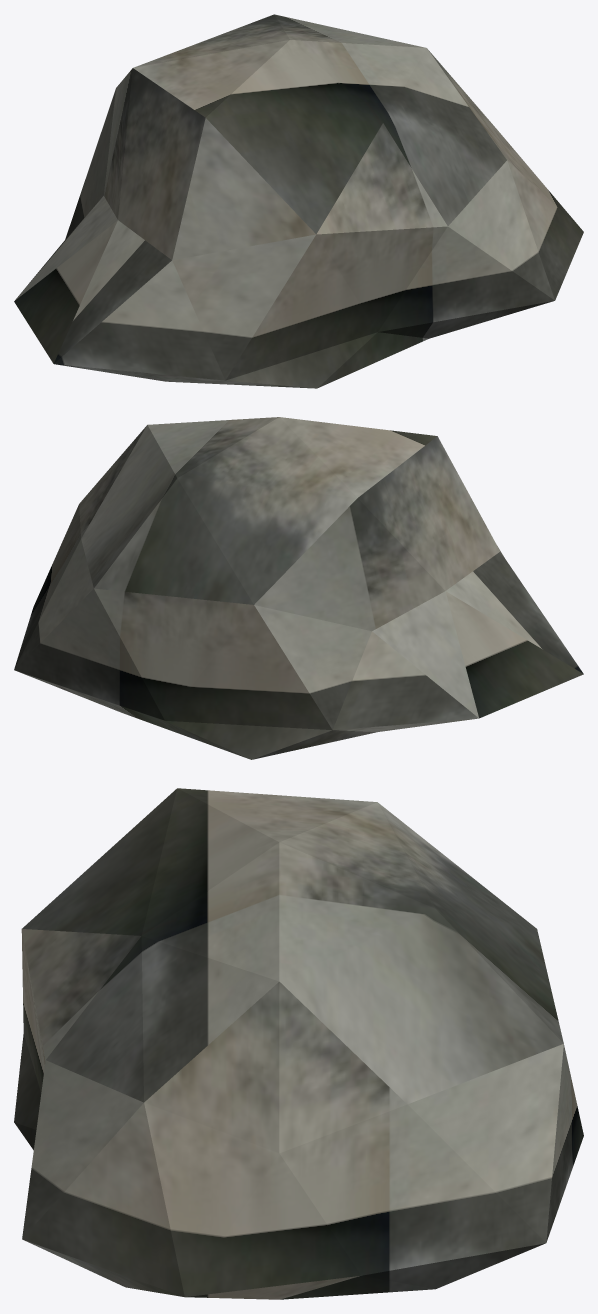
File: terrain3_rock_1.glb
The picture shows the model from 3 angles, top to bottom: view 1: azimuth 30°, elevation 25°; view 2: azimuth 150°, elevation 25°; view 3: azimuth 270°, elevation 25°; orthographic projection. The views are drawn at different scales.
Parts seen in each view (by area): view 1: terrain3_rock_1.glb; view 2: terrain3_rock_1.glb; view 3: terrain3_rock_1.glb.
Part boxes in pixels (box(x1,y1,x2,y2)): terrain3_rock_1.glb: box(14, 14, 583, 388); terrain3_rock_1.glb: box(14, 417, 583, 759); terrain3_rock_1.glb: box(14, 788, 583, 1299).
Size of the model in its own units: 5.69 by 2.6 by 4.09.
1 material, 1 textured.
